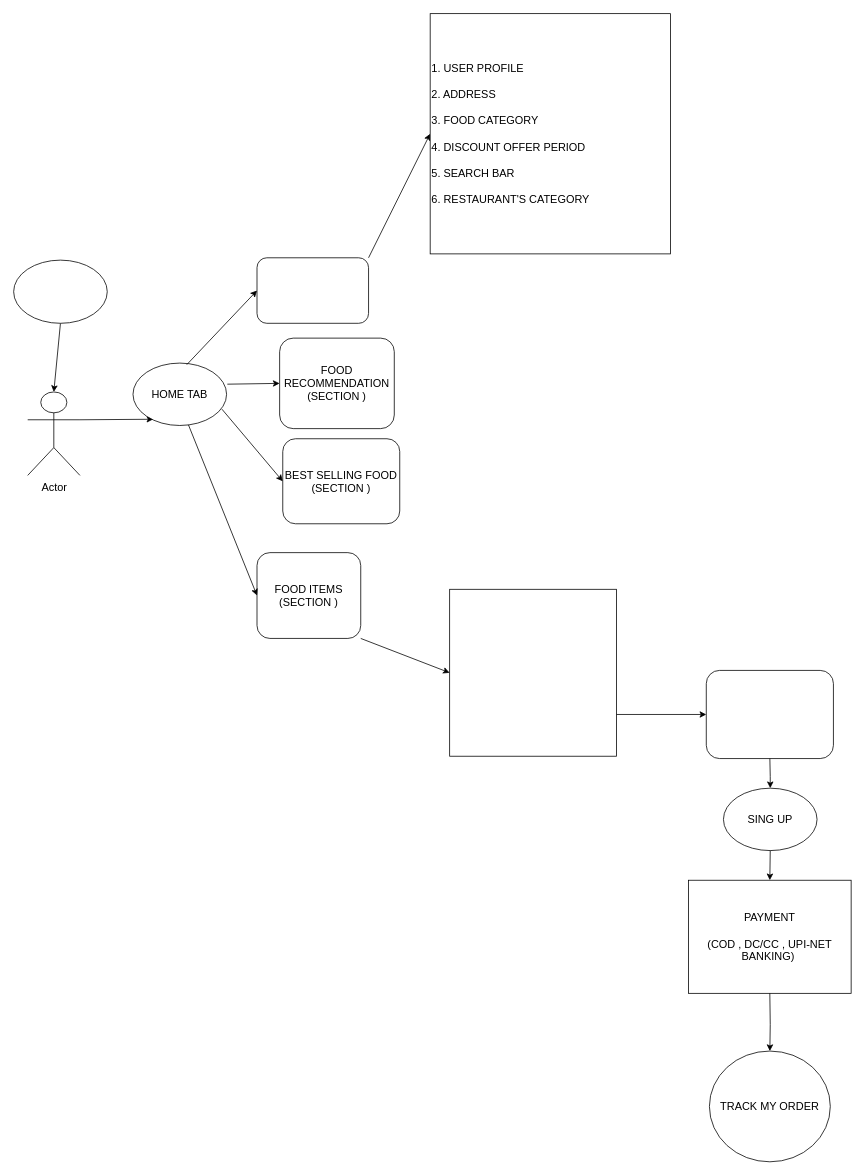
Some shapes in this 865 by 1175 pixel diagram are drawn without their labels. Here are the shapes that lost their labels. From the top down, the box of each, then its label:
(13, 259, 107, 323): USER
(256, 257, 369, 323): NAVIGATION BAR
(449, 589, 617, 756): 1. RATING 2. PRICE 3. TILL AVAILABILITY TIME 4. ADD TO CART
(706, 670, 833, 759): IF PURCHASE
